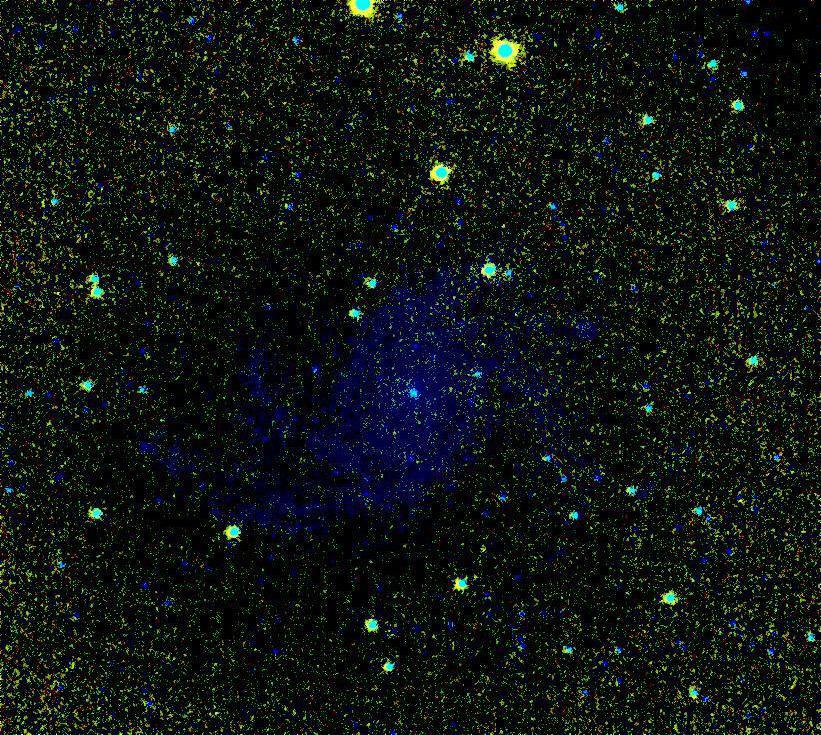star: (468, 534, 498, 564)
